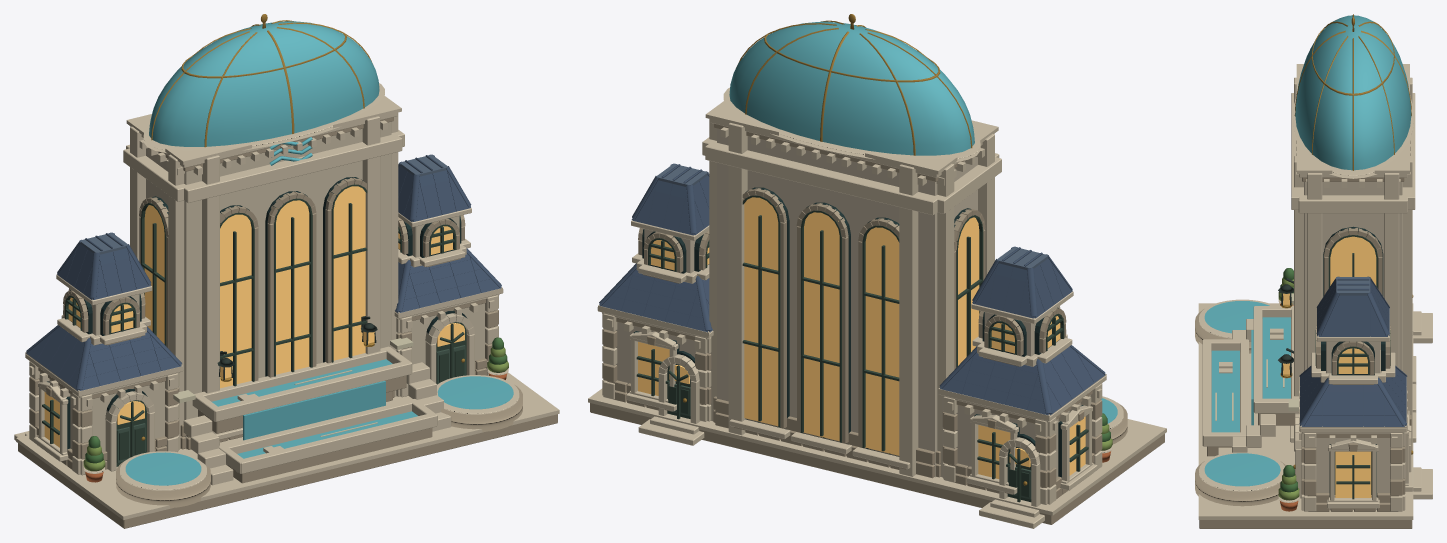
3 renders of one model, left to right at view 1: azimuth 30°, elevation 25°; view 2: azimuth 150°, elevation 25°; view 3: azimuth 270°, elevation 25°, orthographic. The views are drawn at different scales.
Visible parts, largest first — view 1: classic_onsen_3_geometry, classic_onsen_3_geometry ceramic; view 2: classic_onsen_3_geometry, classic_onsen_3_geometry ceramic; view 3: classic_onsen_3_geometry, classic_onsen_3_geometry ceramic.
Boxes of the visible parts, left/top/right/bottom form: classic_onsen_3_geometry: left=14, top=14, right=559, bottom=528; classic_onsen_3_geometry ceramic: left=26, top=154, right=501, bottom=390; classic_onsen_3_geometry: left=588, top=14, right=1166, bottom=528; classic_onsen_3_geometry ceramic: left=599, top=163, right=1105, bottom=415; classic_onsen_3_geometry: left=1195, top=14, right=1432, bottom=528; classic_onsen_3_geometry ceramic: left=1299, top=276, right=1407, bottom=426.
Bounding box in the file's own units: 2.16 × 1.92 × 1.02.
